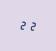two: (27, 19, 34, 31), (19, 19, 26, 30)
